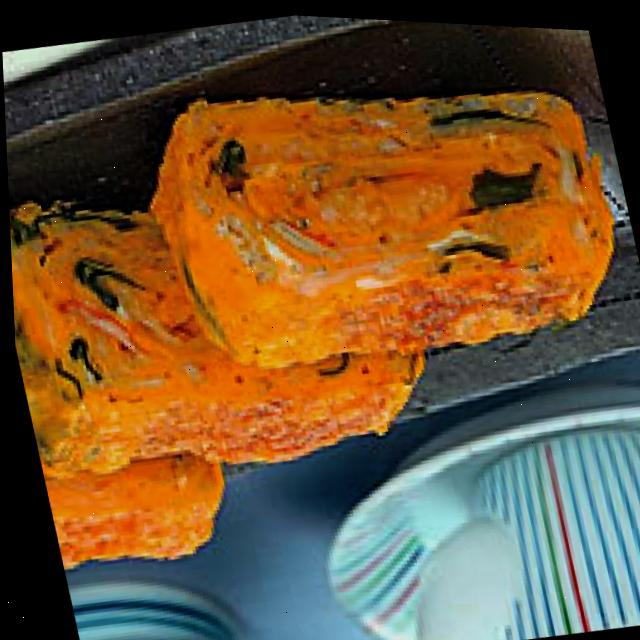鸡蛋料理: (0, 14, 640, 612)
